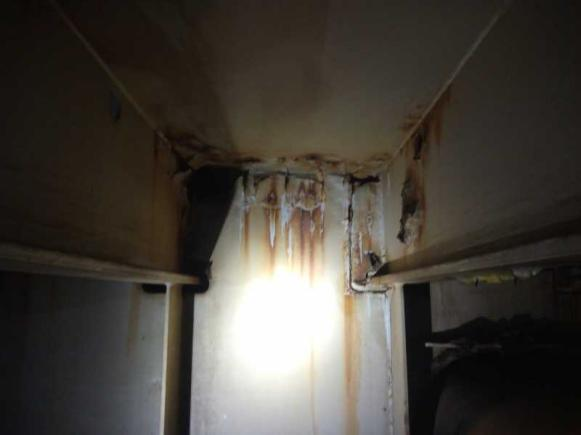corrosion: (226, 161, 338, 276), (393, 131, 469, 232), (334, 278, 373, 433), (341, 174, 382, 269), (142, 109, 167, 202), (121, 295, 145, 351)
